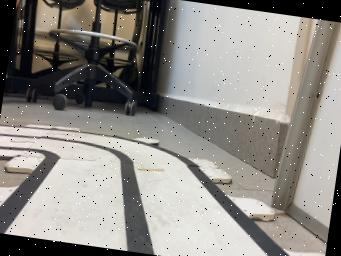street: (0, 125, 289, 256), (0, 125, 289, 256), (0, 125, 289, 256), (0, 125, 289, 256), (0, 125, 289, 256), (0, 125, 289, 256)
